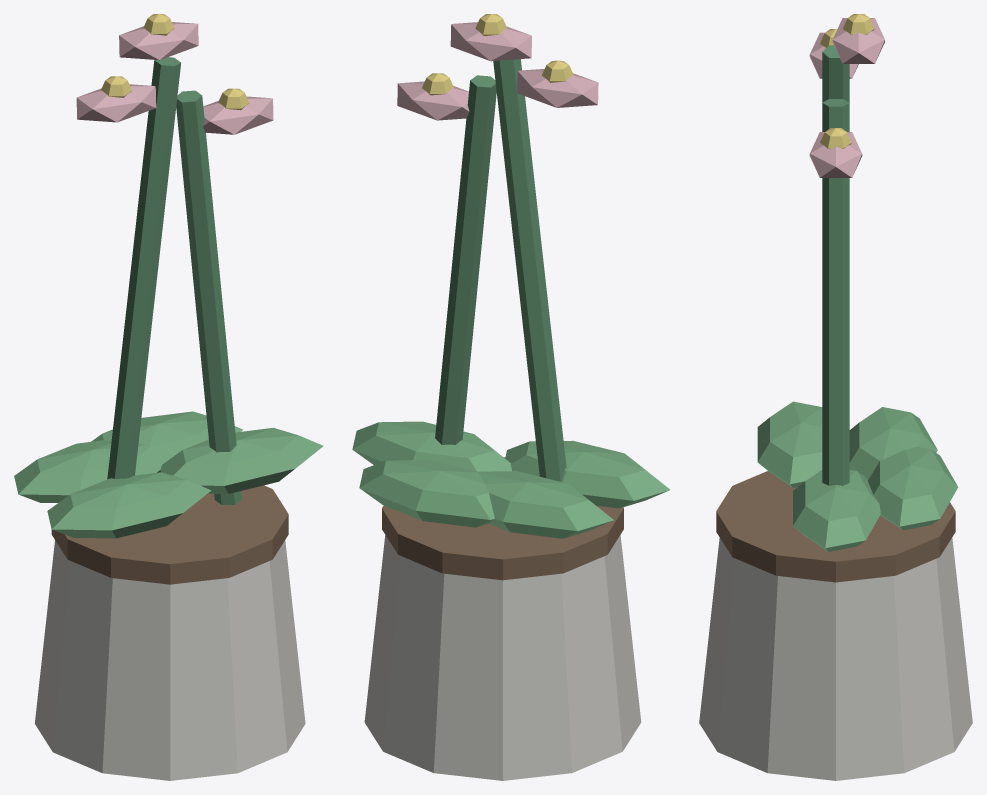
File: planta_orquidea.glb
The picture shows the model from 3 angles, left to right: view 1: azimuth 30°, elevation 25°; view 2: azimuth 150°, elevation 25°; view 3: azimuth 270°, elevation 25°; orthographic projection. The views are drawn at different scales.
Parts seen in each view (by area): view 1: PLANTA_ORQUIDEA; view 2: PLANTA_ORQUIDEA; view 3: PLANTA_ORQUIDEA.
Part boxes in pixels (x1,y1,x2,y2): PLANTA_ORQUIDEA: [14, 14, 323, 780]; PLANTA_ORQUIDEA: [352, 14, 670, 780]; PLANTA_ORQUIDEA: [699, 14, 972, 780].
Bounding box in the file's own units: 0.2966 × 0.686 × 0.24.
